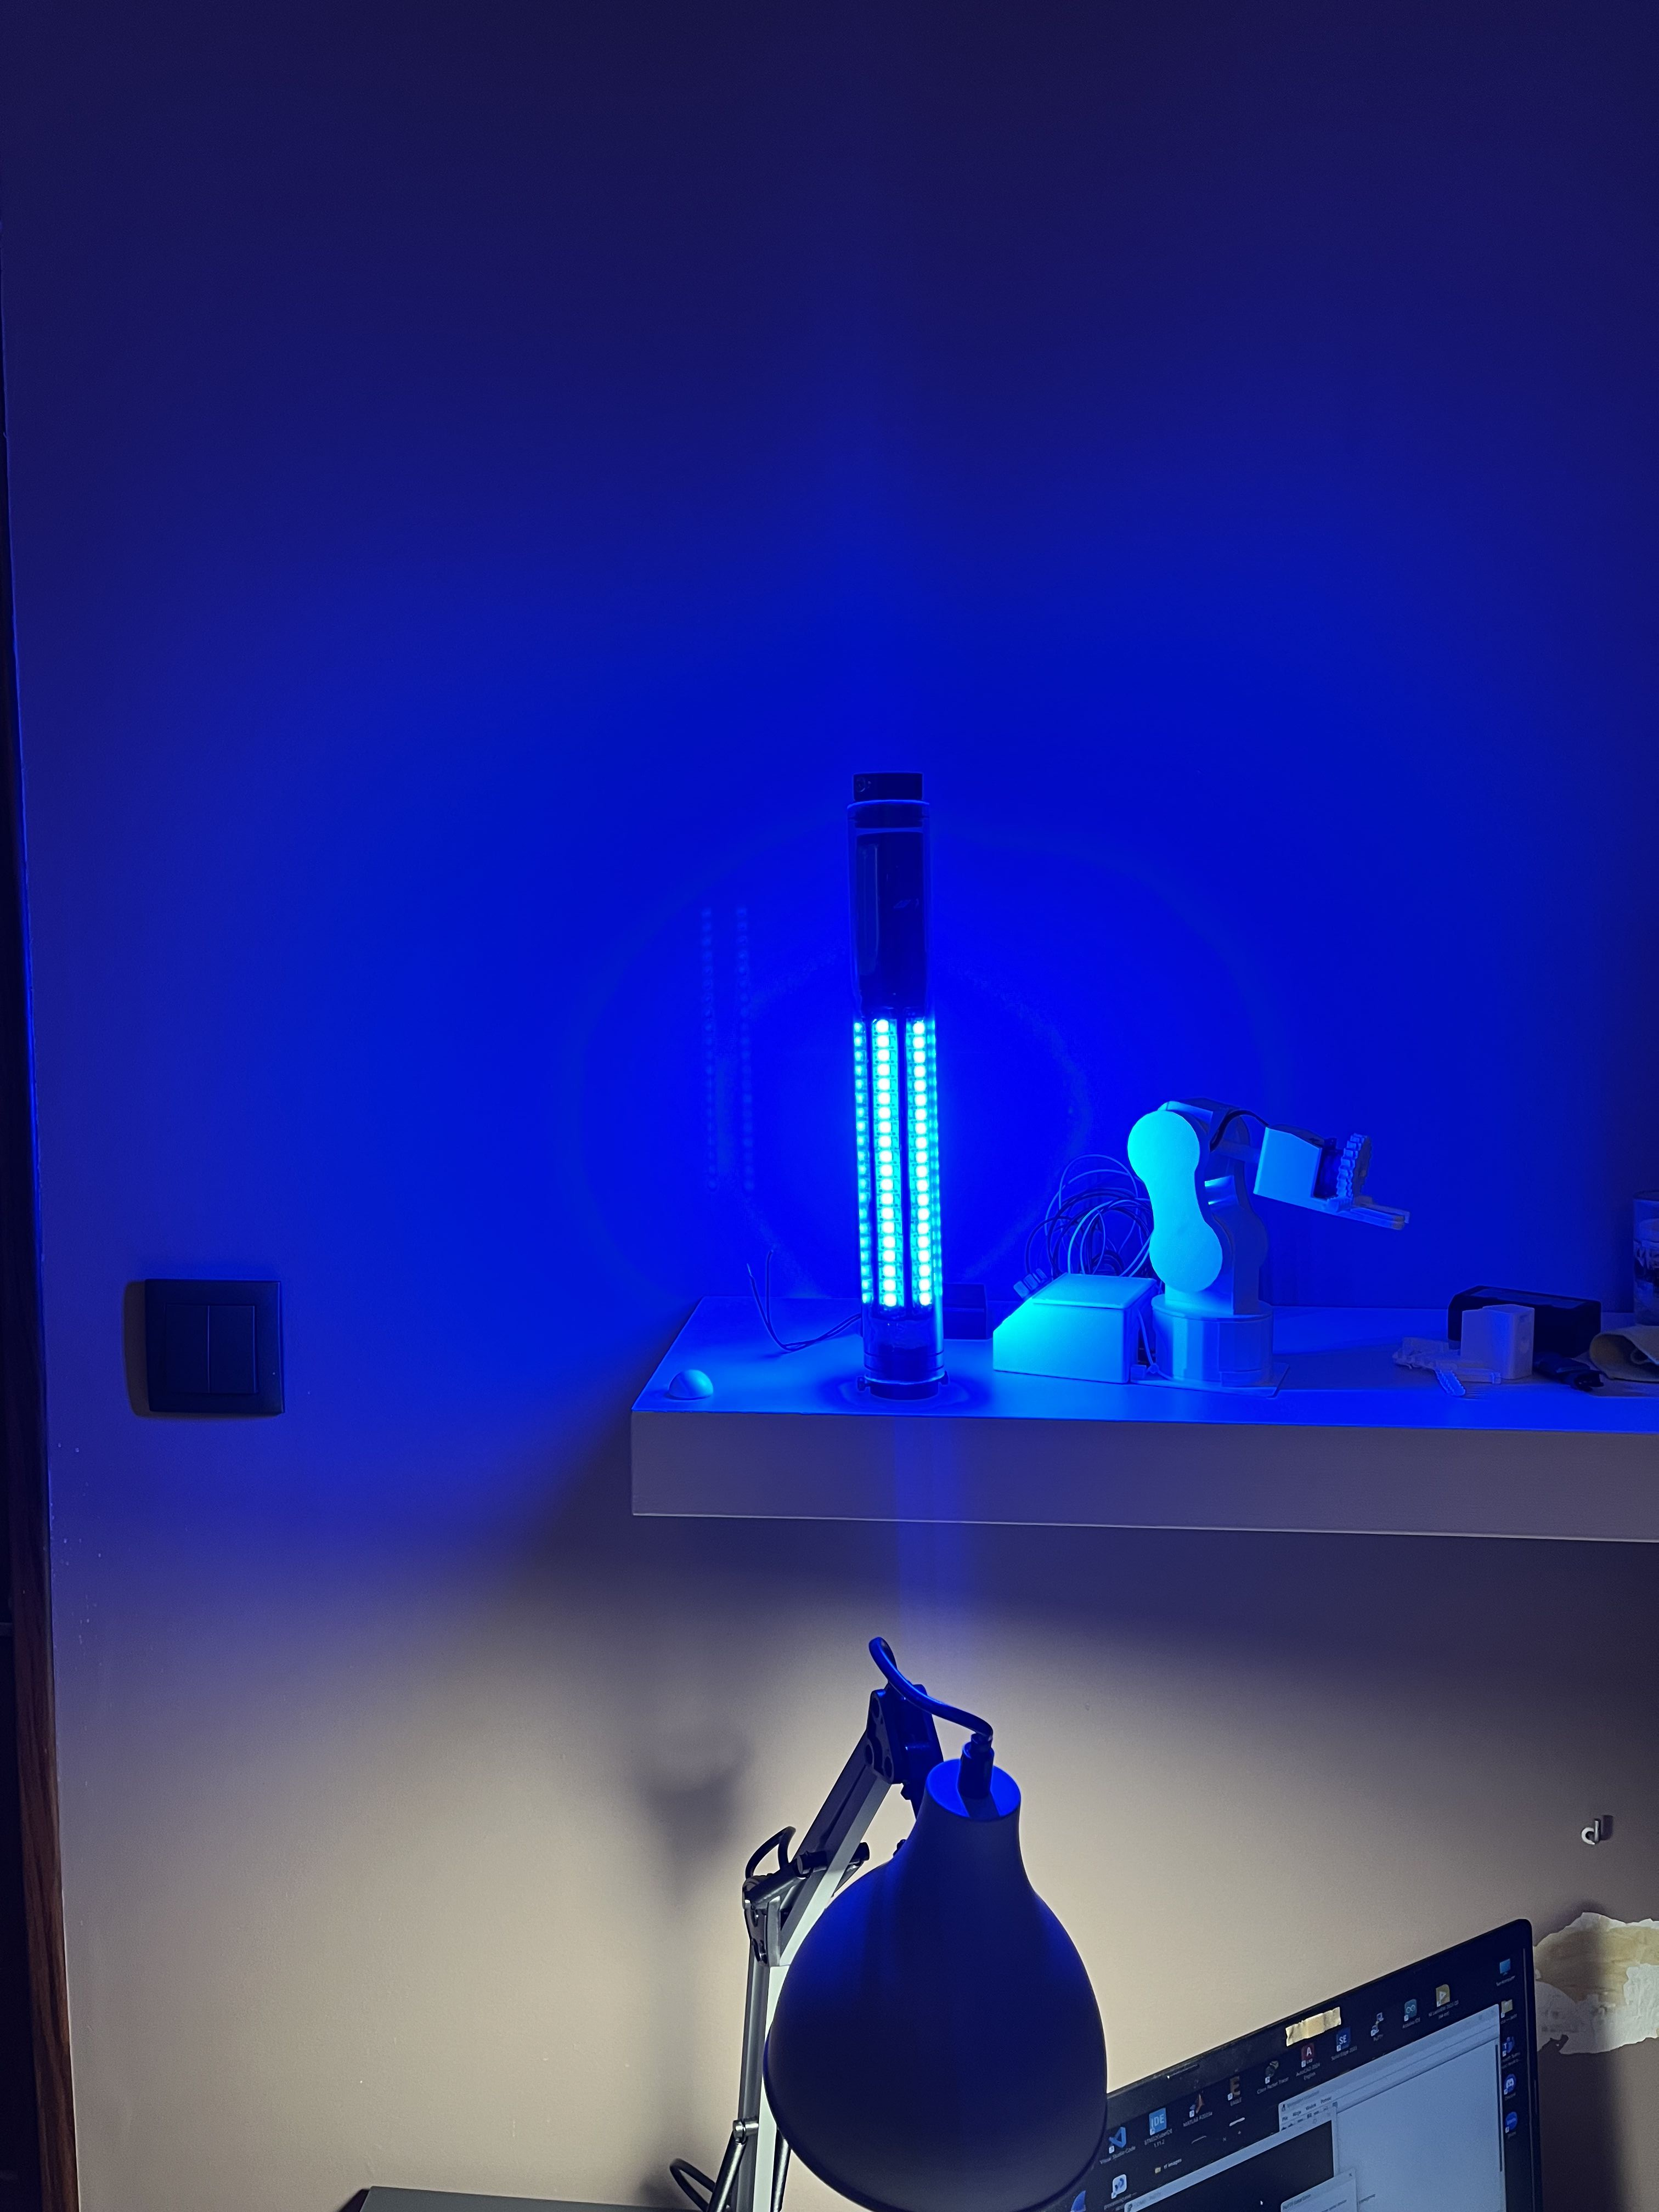blue: (847, 813, 950, 1378)
